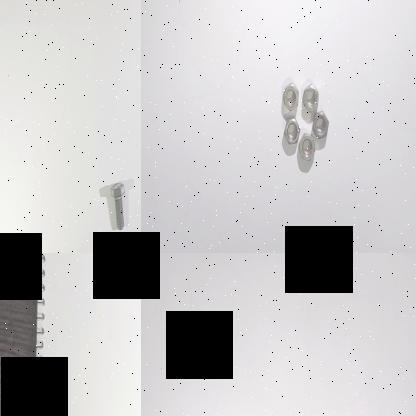Bolts: (106, 178, 128, 234)
NUTS: (310, 106, 330, 142), (302, 82, 320, 118), (282, 83, 302, 115), (298, 132, 318, 162), (283, 117, 303, 147)
